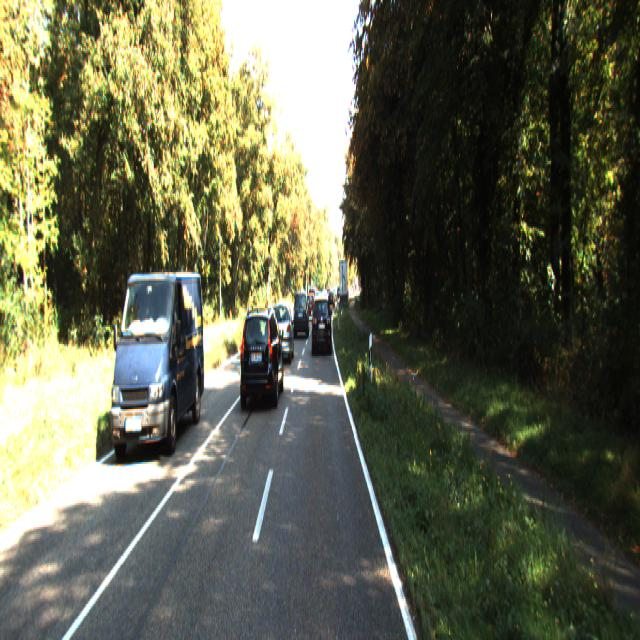Car: (111, 267, 206, 459), (239, 299, 284, 408), (271, 300, 294, 364), (311, 289, 331, 351), (293, 286, 309, 332)
